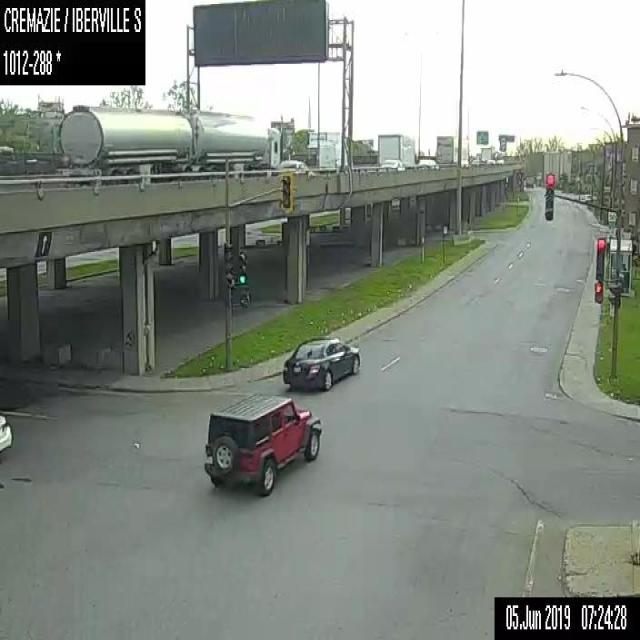vehicle: (57, 109, 293, 176), (203, 392, 321, 491), (283, 335, 359, 388), (375, 131, 415, 165), (436, 134, 471, 166), (318, 139, 347, 170), (272, 158, 308, 176), (0, 412, 12, 452), (377, 158, 405, 171), (480, 144, 497, 162), (414, 157, 438, 169), (471, 158, 486, 165), (486, 158, 495, 165), (496, 158, 504, 164)
